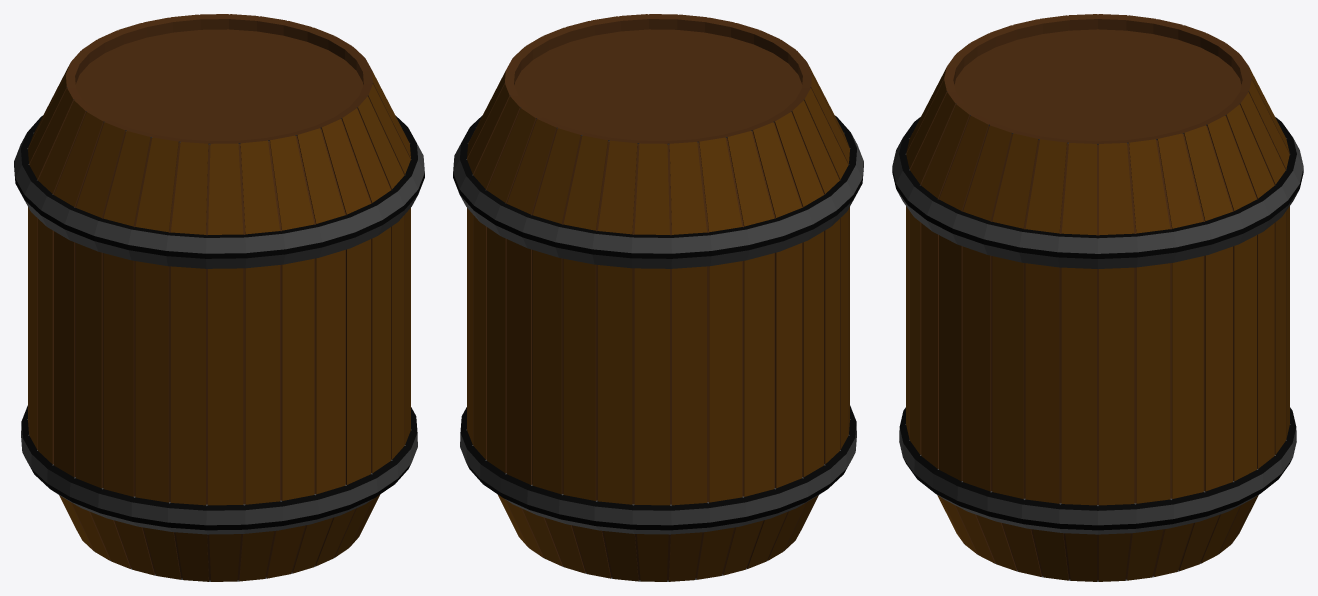
File: barrel.fbx
3 renders of one model, left to right at view 1: azimuth 30°, elevation 25°; view 2: azimuth 150°, elevation 25°; view 3: azimuth 270°, elevation 25°, orthographic.
Parts seen in each view (by area): view 1: barrel; view 2: barrel; view 3: barrel.
Boxes of the visible parts, x1,y1,x2,y2 form: barrel: (14, 14, 424, 581); barrel: (453, 14, 863, 581); barrel: (892, 14, 1303, 581).
Size of the model in its own units: 2.14 by 2.54 by 2.14.
